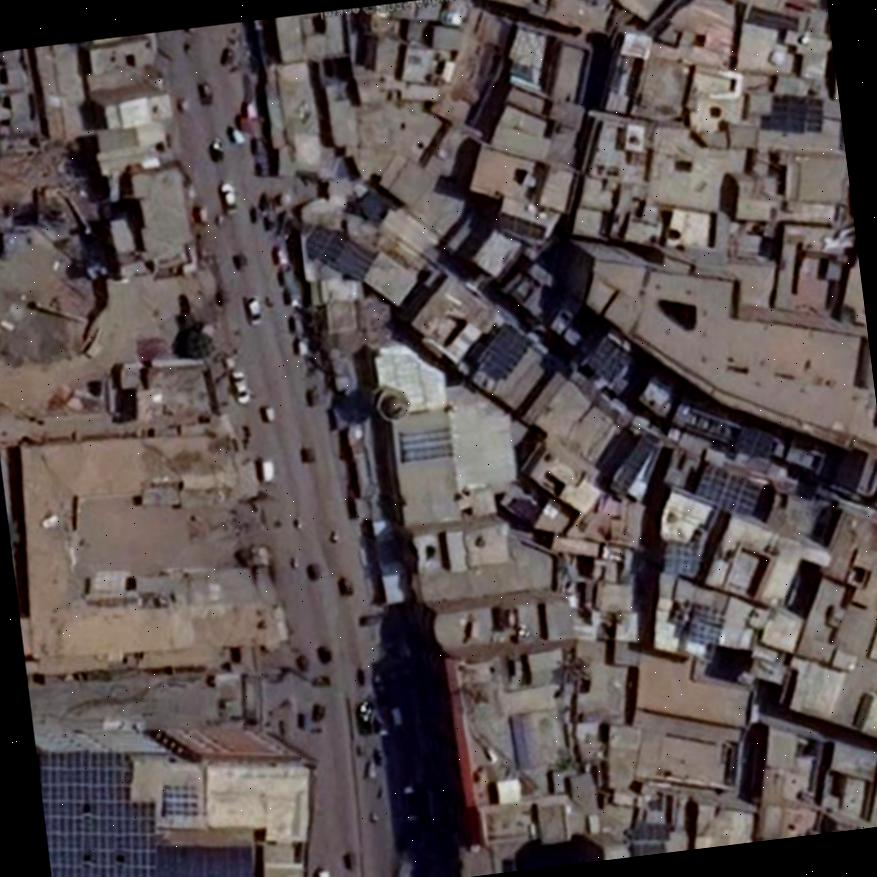Solarpanel: (40, 751, 155, 877), (689, 462, 769, 515), (316, 227, 381, 283), (478, 320, 529, 380), (684, 602, 728, 643), (765, 92, 806, 132), (495, 212, 548, 240), (662, 541, 699, 576), (161, 785, 198, 818)
